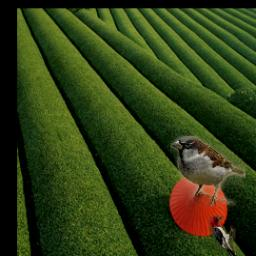Sparrow: (171, 136, 246, 206)
Woodpecker: (209, 216, 236, 256)
